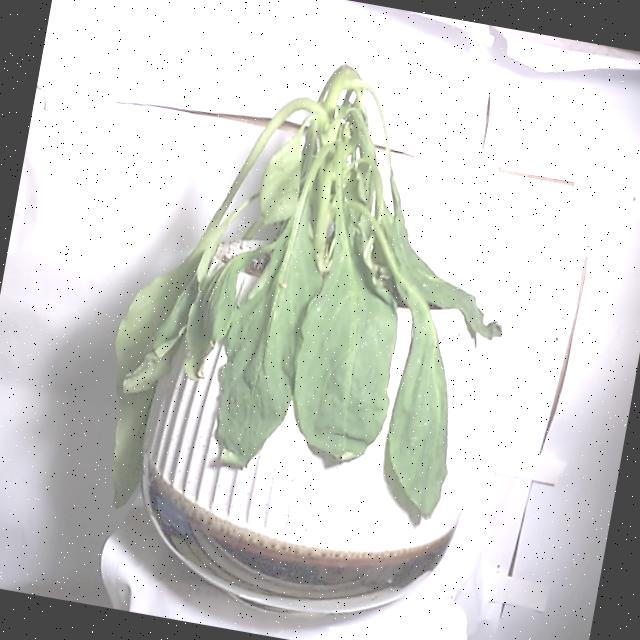Leaf: (206, 203, 336, 474), (280, 255, 410, 472), (376, 312, 474, 521)
